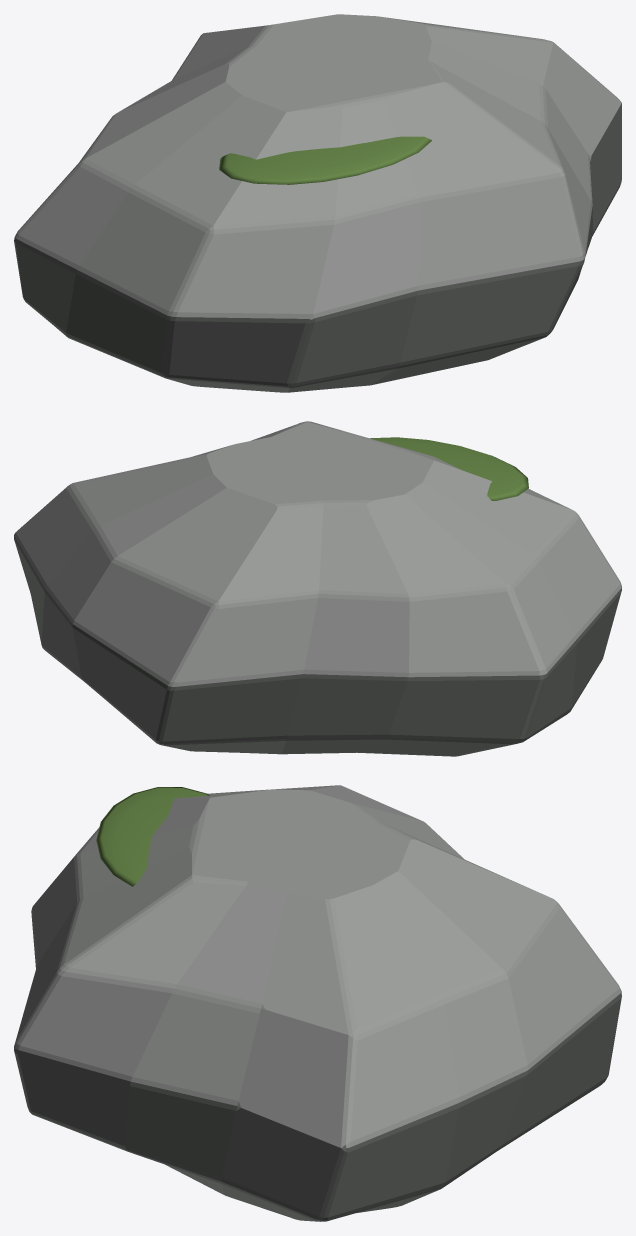
File: Refined_Rock_Boulder.fbx
3 renders of one model, top to bottom at view 1: azimuth 30°, elevation 25°; view 2: azimuth 150°, elevation 25°; view 3: azimuth 270°, elevation 25°, orthographic. The views are drawn at different scales.
Visible parts, largest first — view 1: Rock.006, Moss.002; view 2: Rock.006, Moss.002; view 3: Rock.006, Moss.002.
Part boxes in pixels (left/top/right/bottom): Rock.006: left=14, top=14, right=621, bottom=392; Moss.002: left=219, top=136, right=431, bottom=184; Rock.006: left=14, top=421, right=621, bottom=756; Moss.002: left=370, top=437, right=528, bottom=500; Rock.006: left=14, top=785, right=621, bottom=1221; Moss.002: left=96, top=787, right=209, bottom=886.
Size of the model in its own units: 3.01 by 1.18 by 2.47.
